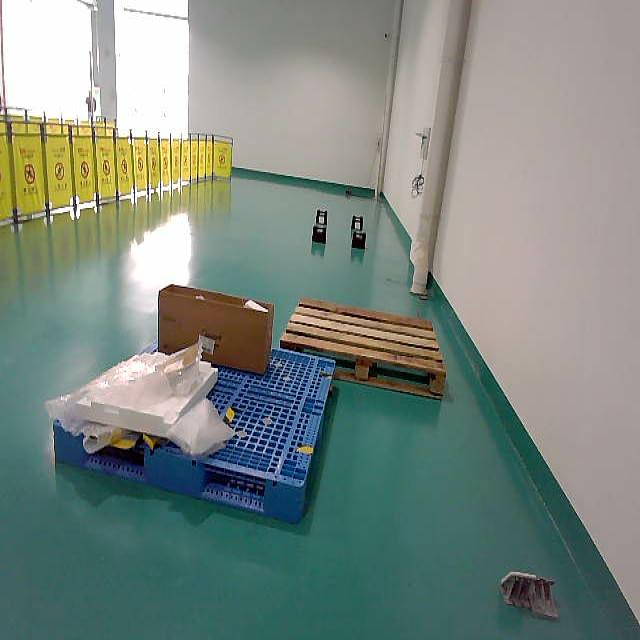euro: (280, 299, 445, 397)
